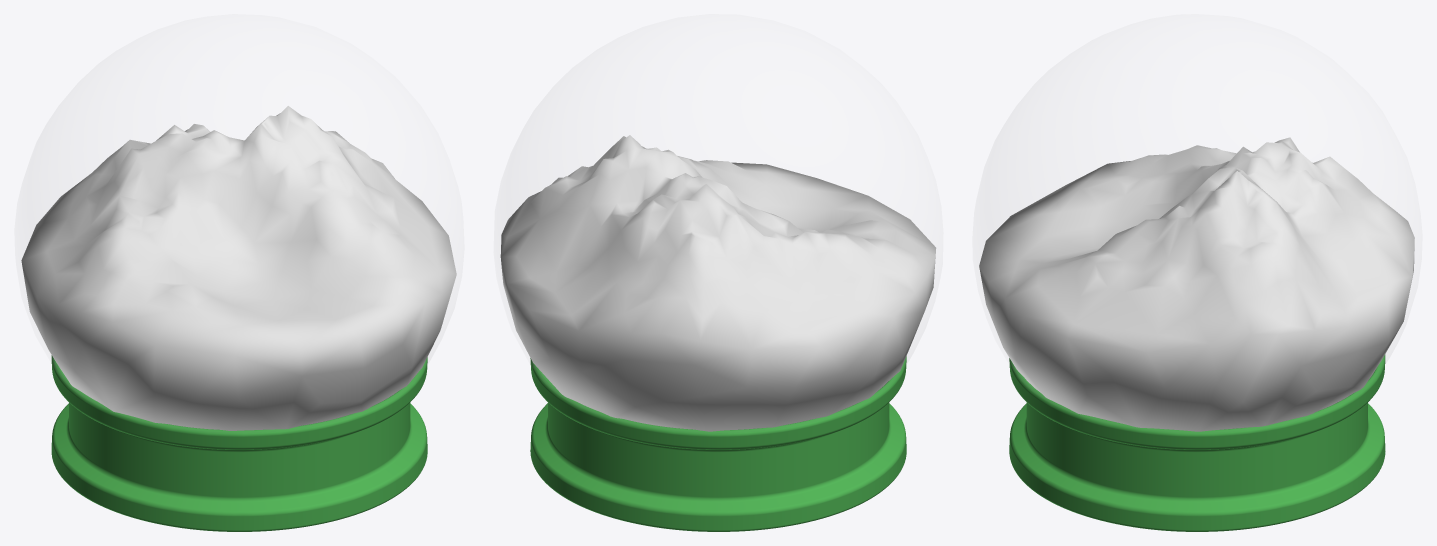
File: Globe2.glb
3 views of the same model, side by side, from view 1: azimuth 30°, elevation 25°; view 2: azimuth 150°, elevation 25°; view 3: azimuth 270°, elevation 25° (orthographic).
Parts seen in each view (by area): view 1: Snowglobe_2; view 2: Snowglobe_2; view 3: Snowglobe_2.
Part boxes in pixels (bbox=[...]): Snowglobe_2: bbox=[21, 105, 456, 531]; Snowglobe_2: bbox=[500, 135, 936, 531]; Snowglobe_2: bbox=[979, 137, 1414, 531].
Size of the model in its own units: 0.9703 by 0.9989 by 0.9722.
